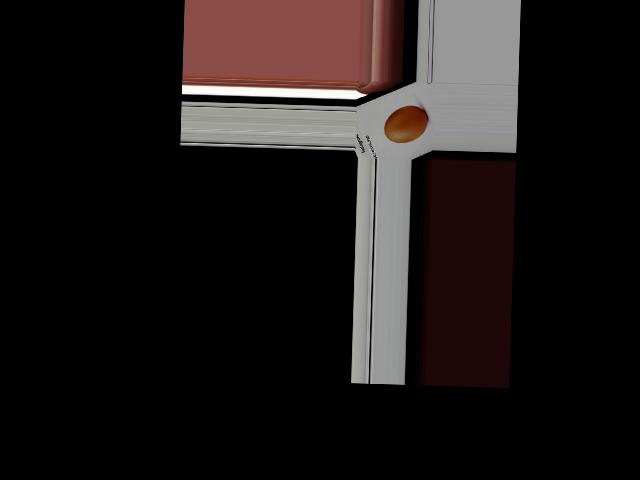egg: (384, 104, 428, 143)
